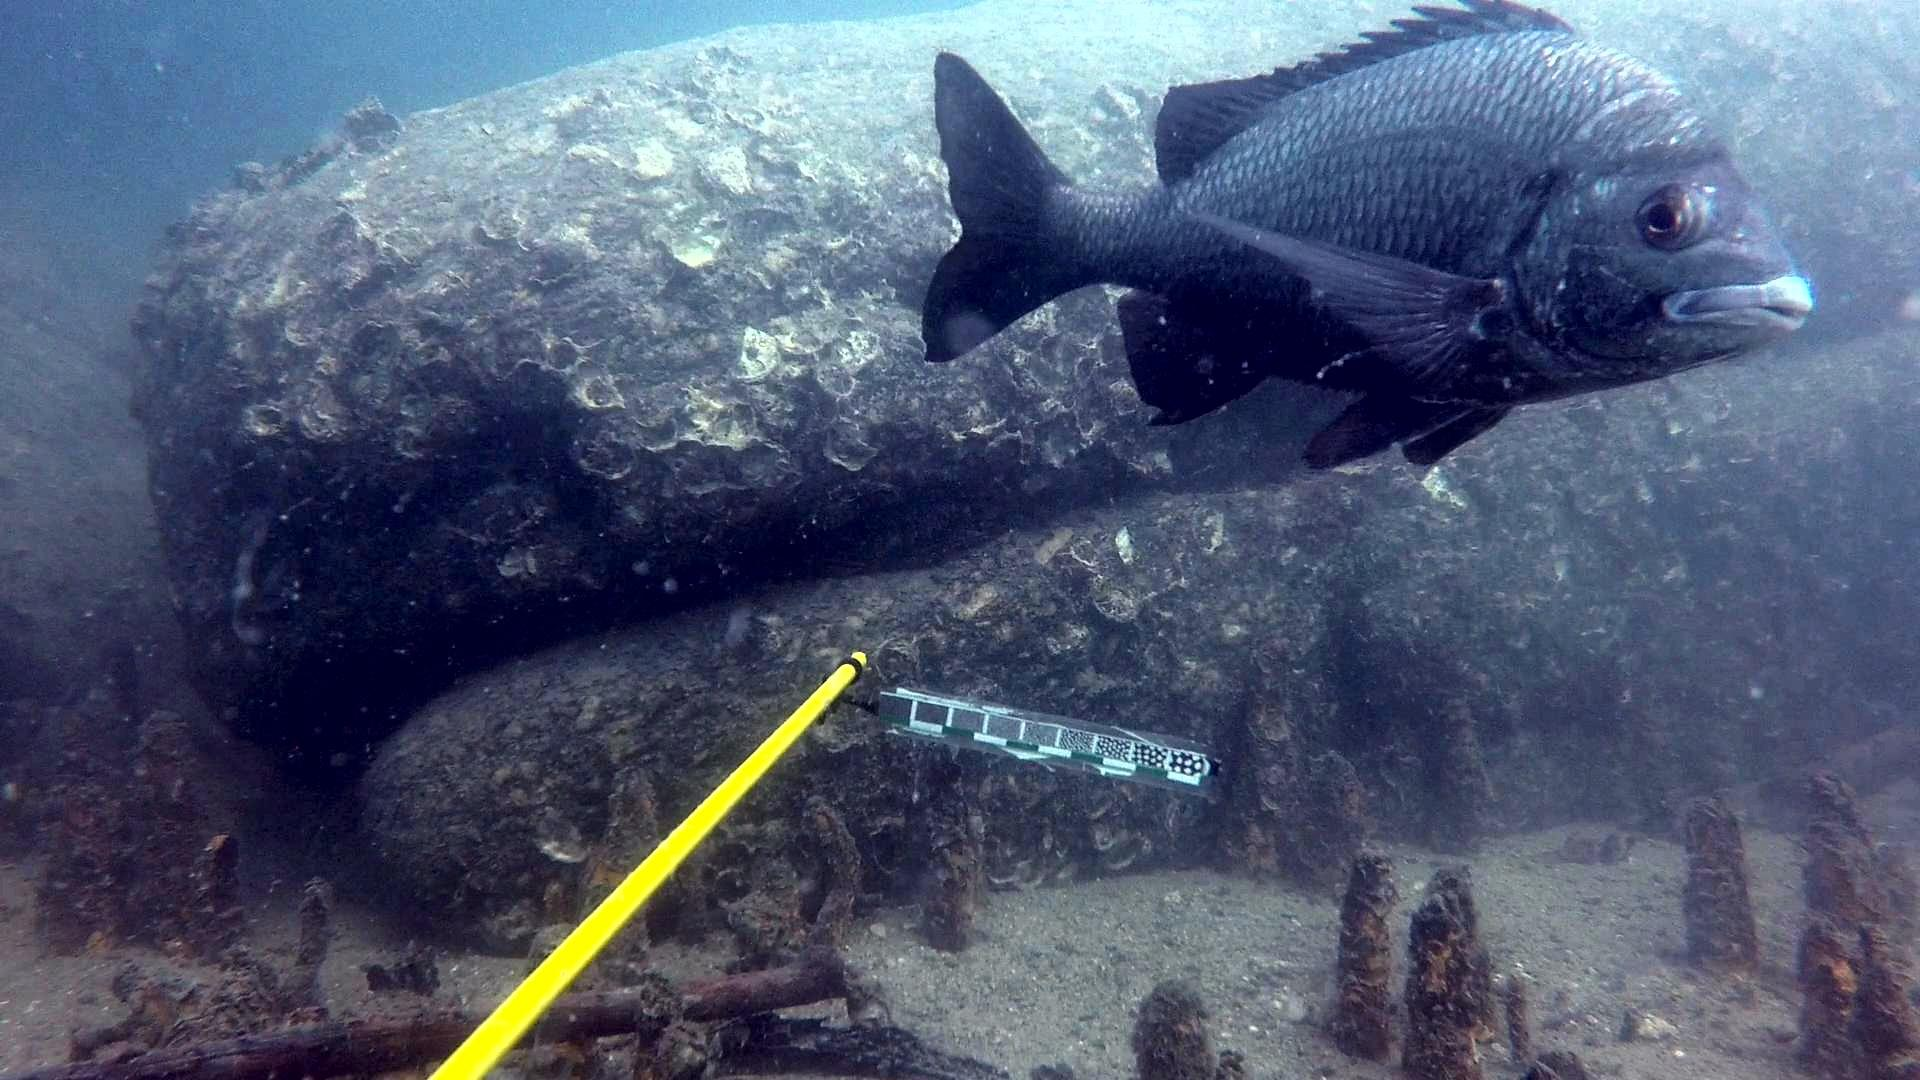acanthopagrus palmaris: (901, 0, 1822, 471)
